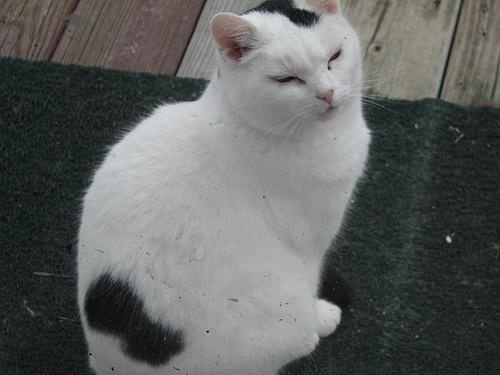cat: (76, 1, 373, 375)
